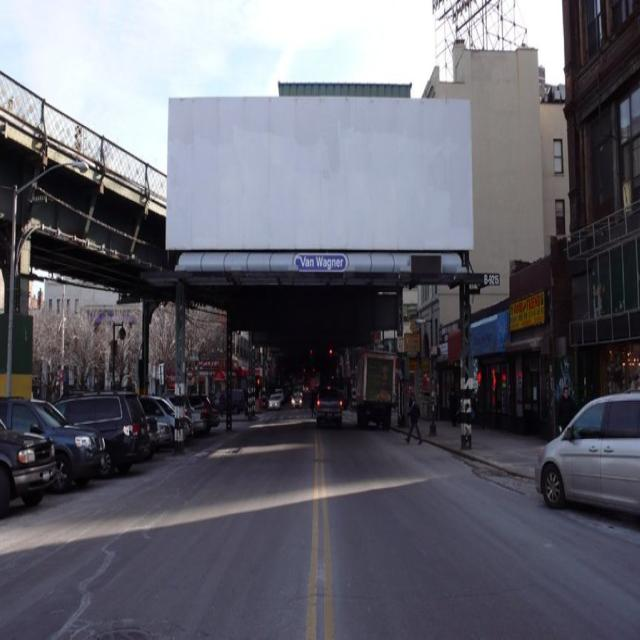car: (538, 380, 638, 508), (0, 391, 101, 498), (0, 413, 60, 518), (144, 386, 186, 417), (313, 386, 345, 421), (289, 392, 301, 407), (268, 391, 278, 404)
